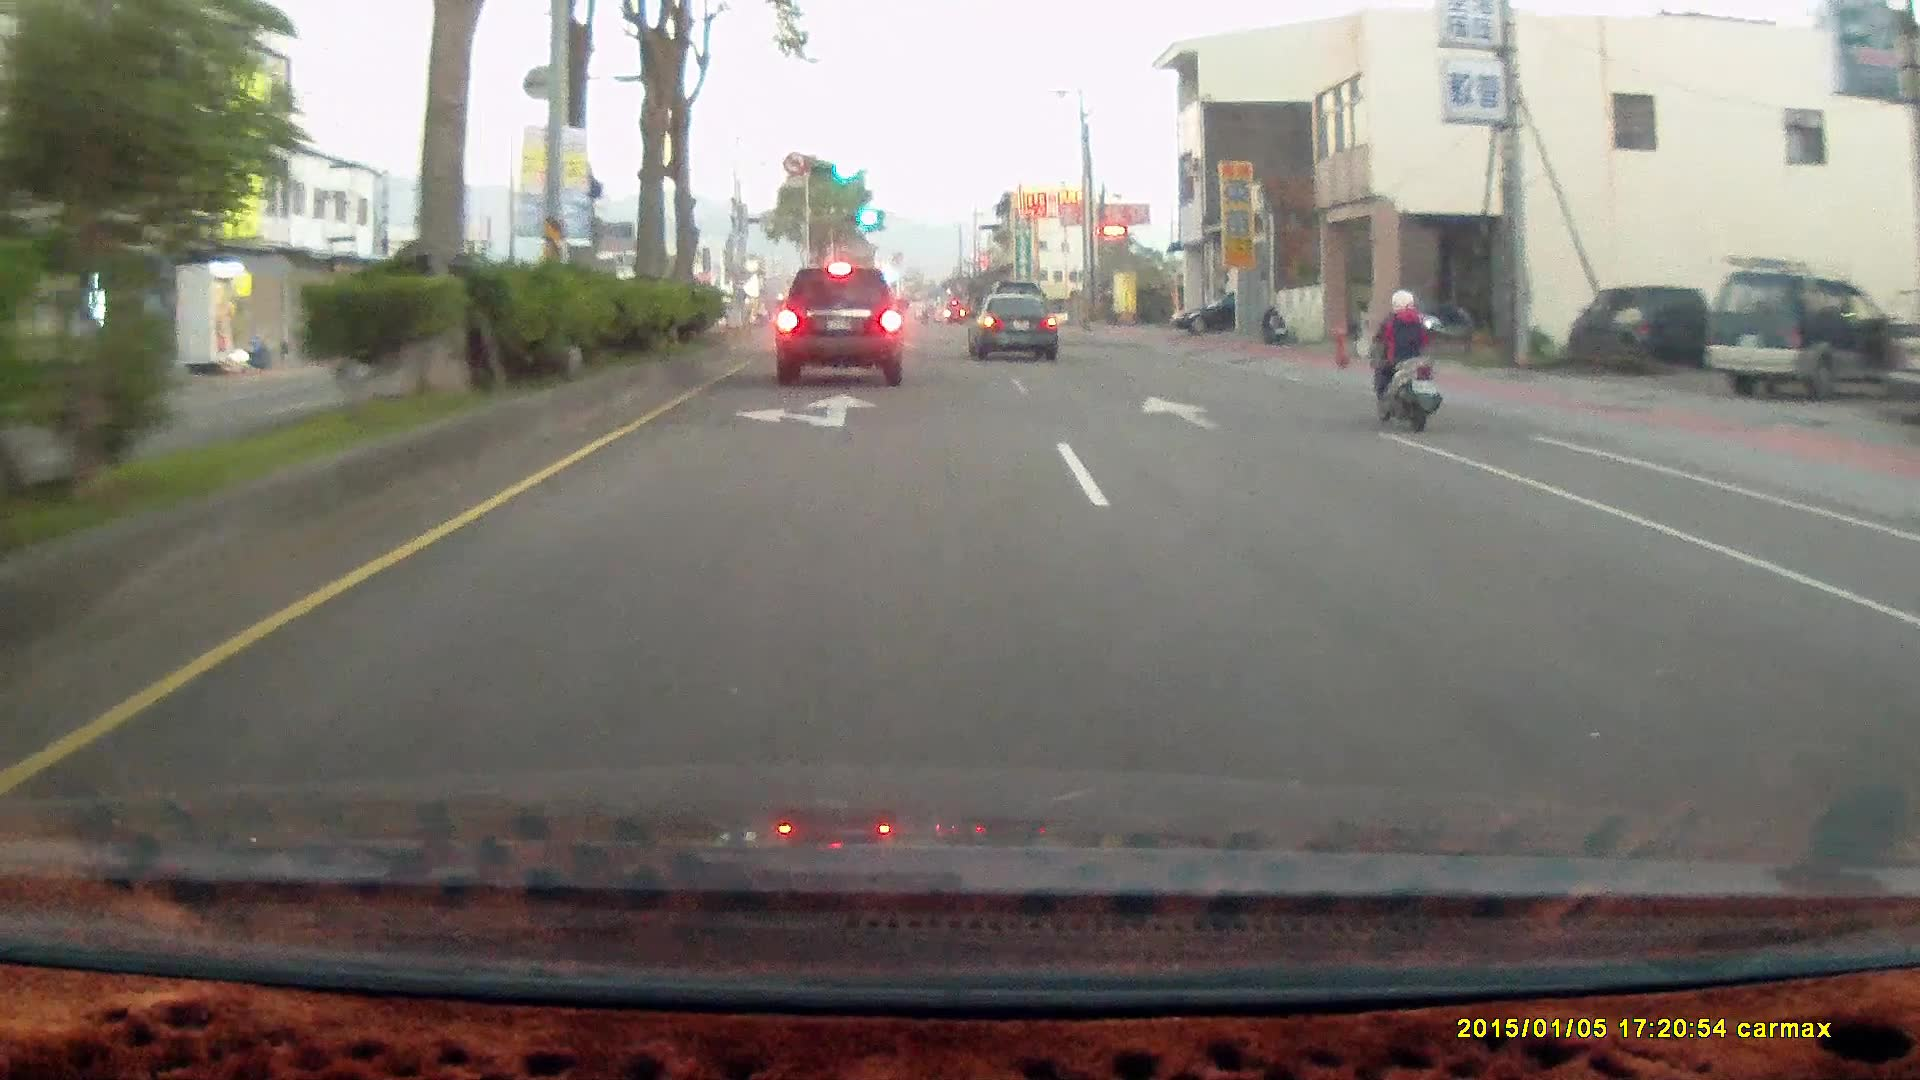rider: (1353, 277, 1454, 442), (1364, 284, 1442, 428)
vehicle: (1701, 269, 1907, 400), (1711, 272, 1883, 400), (772, 256, 911, 381), (775, 265, 907, 386), (1569, 281, 1710, 373), (1569, 284, 1710, 371), (966, 293, 1062, 362), (969, 291, 1056, 356), (1171, 290, 1280, 336), (1170, 289, 1239, 338)
